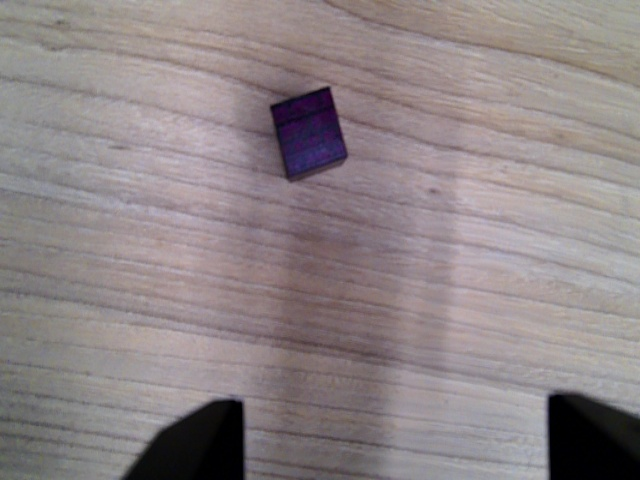brick: (267, 82, 350, 184)
